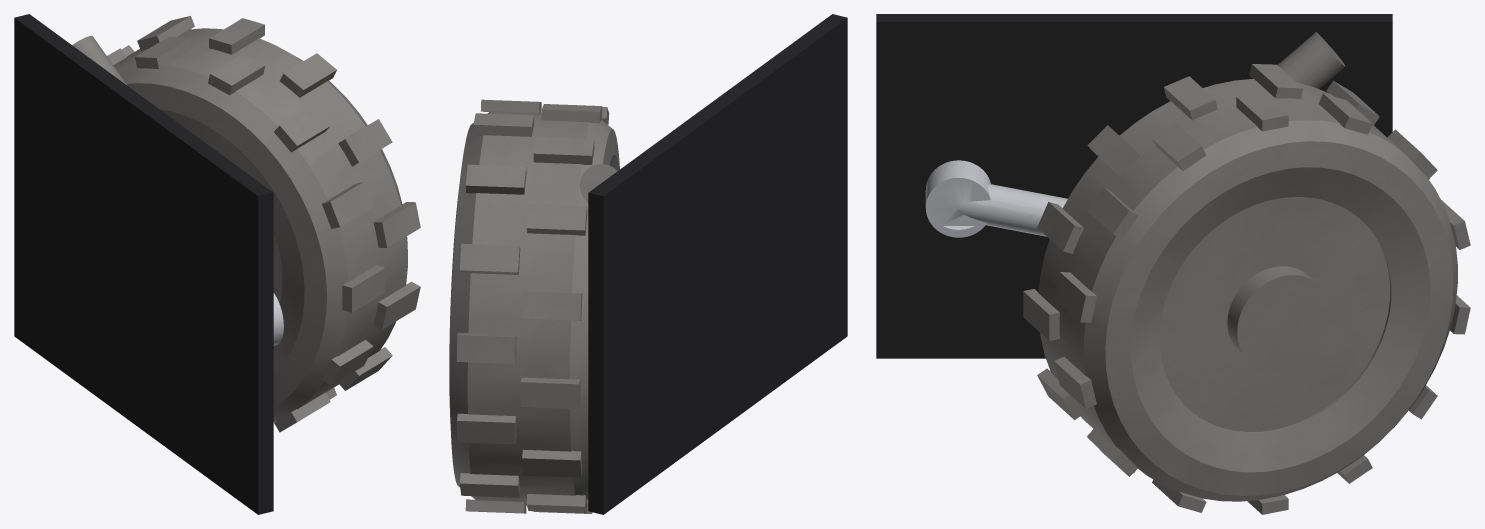
File: rover04_wheel_l_steer_left.glb
The picture shows the model from 3 angles, left to right: view 1: azimuth 30°, elevation 25°; view 2: azimuth 150°, elevation 25°; view 3: azimuth 270°, elevation 25°; orthographic projection. The views are drawn at different scales.
Visible parts, largest first — view 1: mount_plate, wheel, damper; view 2: mount_plate, wheel, damper; view 3: wheel, mount_plate, swing_arm, damper.
Part boxes in pixels (x1,y1,x2,y2): mount_plate: [14, 14, 273, 514]; wheel: [107, 16, 420, 432]; damper: [72, 36, 127, 85]; mount_plate: [588, 14, 847, 514]; wheel: [449, 99, 619, 513]; damper: [579, 164, 617, 202]; wheel: [1023, 64, 1470, 514]; mount_plate: [876, 14, 1392, 358]; swing_arm: [925, 160, 1067, 237]; damper: [1278, 32, 1345, 88].
Bounding box in the file's own units: 0.9188 × 1.29 × 1.73.
3 materials, 2 textured.
